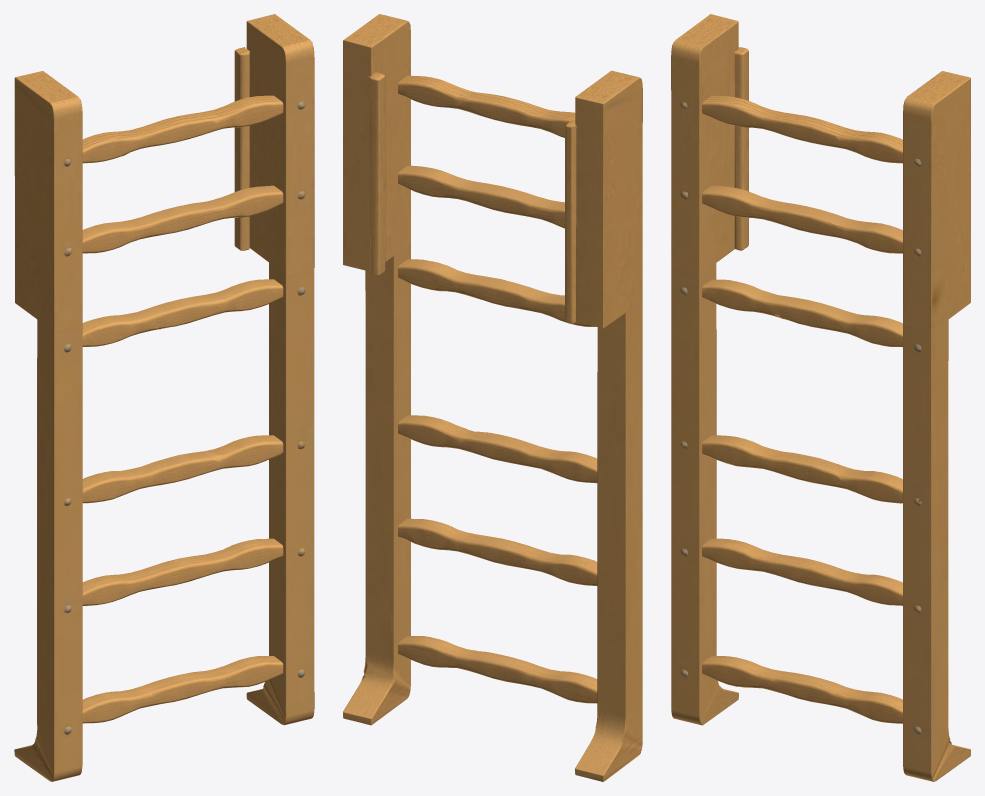
File: ladder.glb
3 renders of one model, left to right at view 1: azimuth 30°, elevation 25°; view 2: azimuth 150°, elevation 25°; view 3: azimuth 330°, elevation 25°, orthographic.
Size of the model in its own units: 0.3824 by 0.9517 by 0.1118.
Materials: 1 (1 with a texture image).
